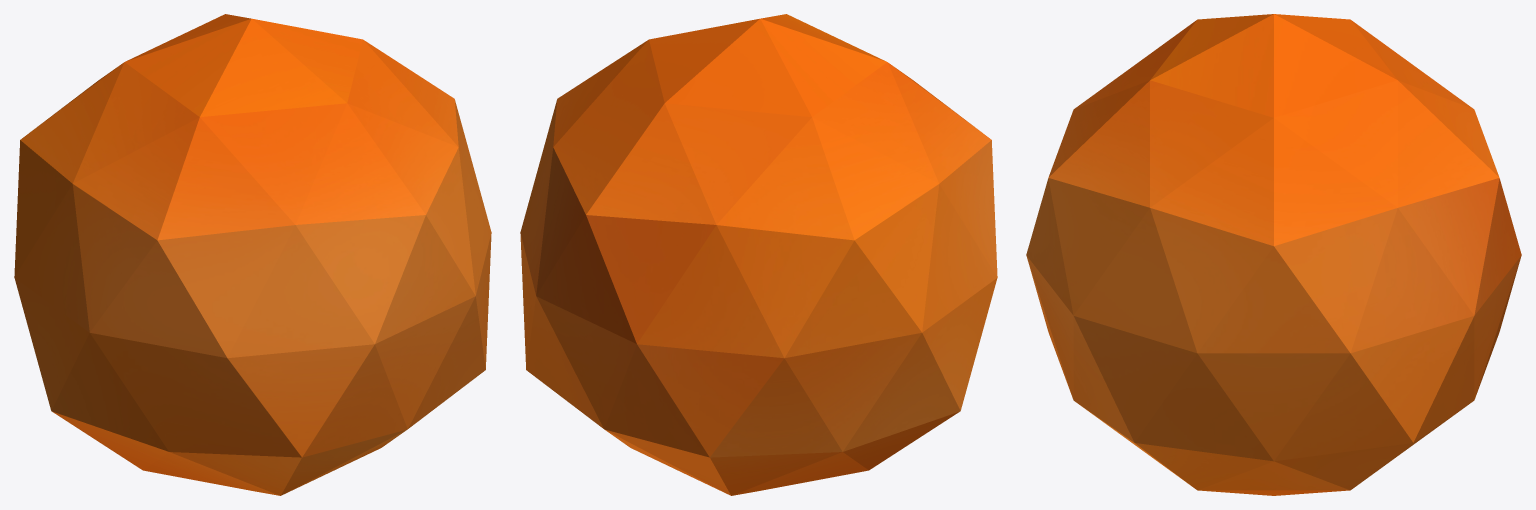
The model's file is sun.fbx.
3 views of the same model, side by side, from view 1: azimuth 30°, elevation 25°; view 2: azimuth 150°, elevation 25°; view 3: azimuth 270°, elevation 25° (orthographic).
Parts seen in each view (by area): view 1: pSolid1; view 2: pSolid1; view 3: pSolid1.
Boxes of the visible parts, x1=… form: pSolid1: x1=14, y1=14, x2=491, y2=495; pSolid1: x1=520, y1=14, x2=997, y2=495; pSolid1: x1=1026, y1=14, x2=1521, y2=495.
Size of the model in its own units: 16.52 by 18.53 by 17.3.
